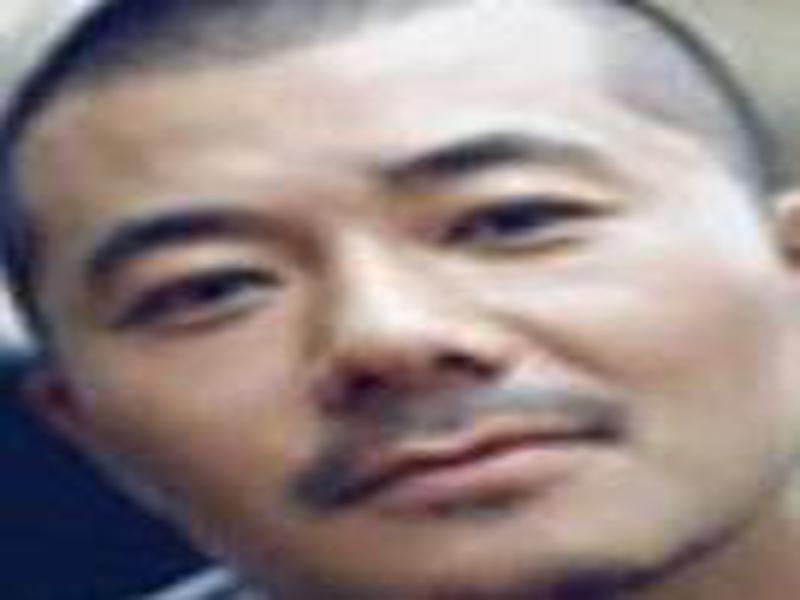without_mask: (20, 87, 778, 579)
